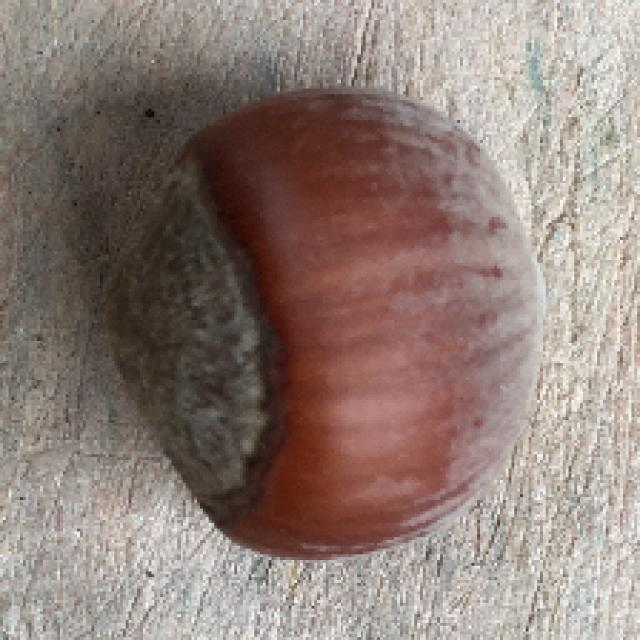qualityHazelnut: (101, 82, 551, 557)
